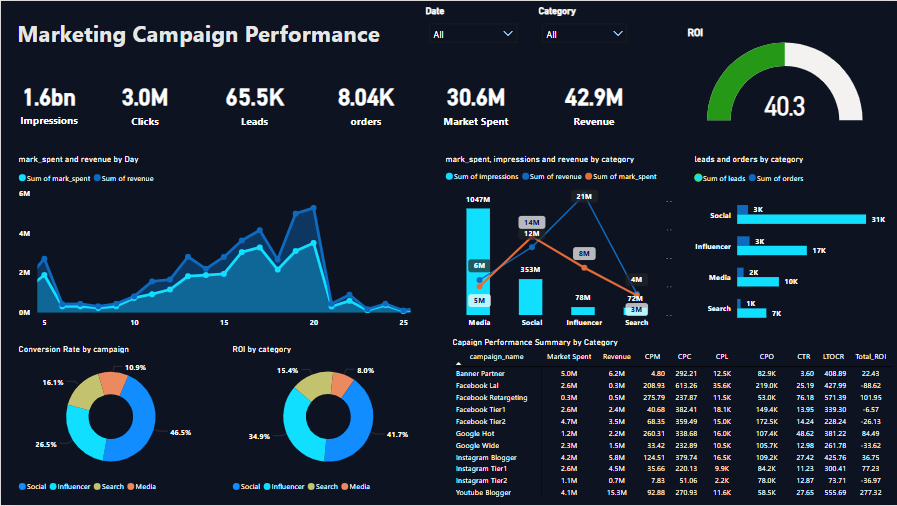

This screenshot's page, from the dashboard's own definition file:
{"tool":"powerbi","page":{"name":"Page 2","canvas":[1280,720],"ordinal":0},"visuals":[{"type":"donutChart","title":"ROI by category","fields":{"Category":["Marketing.category"],"Y":["Sum(Marketing.ROI)"]},"box":[304,239.5,272,224],"z":0},{"type":"donutChart","title":"Conversion Rate by campaign","fields":{"Category":["Marketing.category"],"Y":["Sum(Marketing.Conversion Rate)"]},"box":[16,239.5,272,224],"z":1000},{"type":"pivotTable","title":"Capaign Performance Summary by Category","fields":{"Rows":["Marketing.campaign_name"],"Values":["Table.Market Spent","Table.Revenue","Marketing.CPM","Table.CPC","Table.CPL","Table.CPO","Table.CTR","Table.LTOCR","Table.Total_ROI"]},"box":[608,480,656,224],"z":2000},{"type":"clusteredColumnChart","title":"leads and orders by category","fields":{"Category":["Marketing.category"],"Y":["Sum(Marketing.leads)","Sum(Marketing.orders)"]},"box":[16,480,560,224],"z":3000},{"type":"card","fields":{"Values":["Marketing.Total orders"]},"box":[496.3,105.3,144,112],"z":4000},{"type":"gauge","title":"ROI","fields":{"Y":["Table.Total ROI"]},"box":[992,16,272,208],"z":5000},{"type":"card","fields":{"Values":["Marketing.Market Spent"]},"box":[656.3,105.3,144,112],"z":6000},{"type":"textbox","box":[16,16,944,80],"z":7000},{"type":"card","fields":{"Values":["Marketing.Total Revenue"]},"box":[816.3,105.3,144,112],"z":8000},{"type":"card","title":"improgain","fields":{"Values":["Marketing.Total Impressions"]},"box":[16.3,105.3,144,112],"z":9000},{"type":"lineChart","title":"mark_spent and revenue by Day","fields":{"Category":["Marketing.c_date.Variation.Date Hierarchy.Day"],"Y":["Sum(Marketing.mark_spent)","Sum(Marketing.revenue)"]},"box":[608,239.5,656,224],"z":10000},{"type":"card","fields":{"Values":["Marketing.Total Clicks"]},"box":[176.3,105.3,144,112],"z":11000},{"type":"card","fields":{"Values":["Table.Leads"]},"box":[336.3,105.3,144,112],"z":12000}]}

Visuals, with their boxes in screenshot pixels (x1, y1, x2, y2), scaled from the page's 1280x720 canvas onto the 897x506 screenshot:
"ROI by category" donutChart: [left=213, top=168, right=404, bottom=326]
"Conversion Rate by campaign" donutChart: [left=11, top=168, right=202, bottom=326]
"Capaign Performance Summary by Category" pivotTable: [left=426, top=337, right=886, bottom=495]
"leads and orders by category" clusteredColumnChart: [left=11, top=337, right=404, bottom=495]
card - Marketing.Total orders: [left=348, top=74, right=449, bottom=153]
"ROI" gauge: [left=695, top=11, right=886, bottom=157]
card - Marketing.Market Spent: [left=460, top=74, right=561, bottom=153]
textbox: [left=11, top=11, right=673, bottom=67]
card - Marketing.Total Revenue: [left=572, top=74, right=673, bottom=153]
"improgain" card: [left=11, top=74, right=112, bottom=153]
"mark_spent and revenue by Day" lineChart: [left=426, top=168, right=886, bottom=326]
card - Marketing.Total Clicks: [left=124, top=74, right=224, bottom=153]
card - Table.Leads: [left=236, top=74, right=337, bottom=153]
